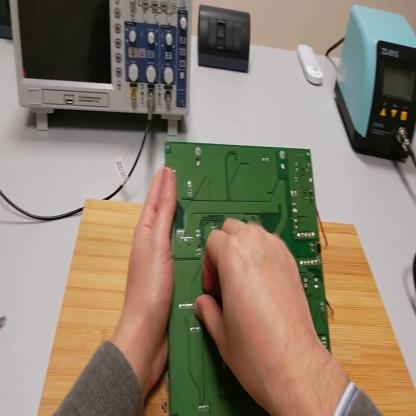hand: (198, 216, 322, 400), (126, 167, 184, 385)
low voltage board: (162, 141, 328, 416)
oscilloscope: (11, 4, 193, 144)
socket: (1, 2, 15, 41)
welder station: (337, 4, 415, 160)
working area: (37, 199, 416, 416)
